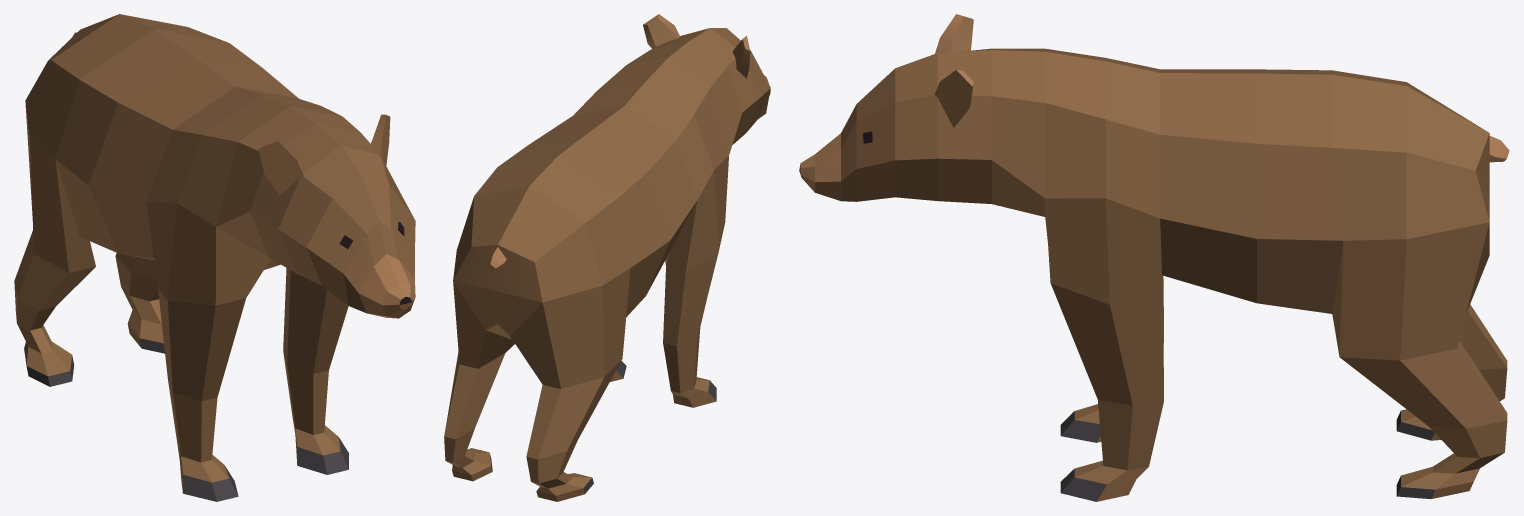
File: bear.glb
3 renders of one model, left to right at view 1: azimuth 30°, elevation 25°; view 2: azimuth 150°, elevation 25°; view 3: azimuth 270°, elevation 25°, orthographic. The views are drawn at different scales.
Visible parts, largest first — view 1: Geo_Bear; view 2: Geo_Bear; view 3: Geo_Bear.
Boxes of the visible parts, x1=… form: Geo_Bear: x1=14, y1=14, x2=415, y2=501; Geo_Bear: x1=444, y1=14, x2=770, y2=501; Geo_Bear: x1=799, y1=14, x2=1509, y2=501.
Bounding box in the file's own units: 75.63 × 140 × 216.
Materials: 1 (1 with a texture image).
